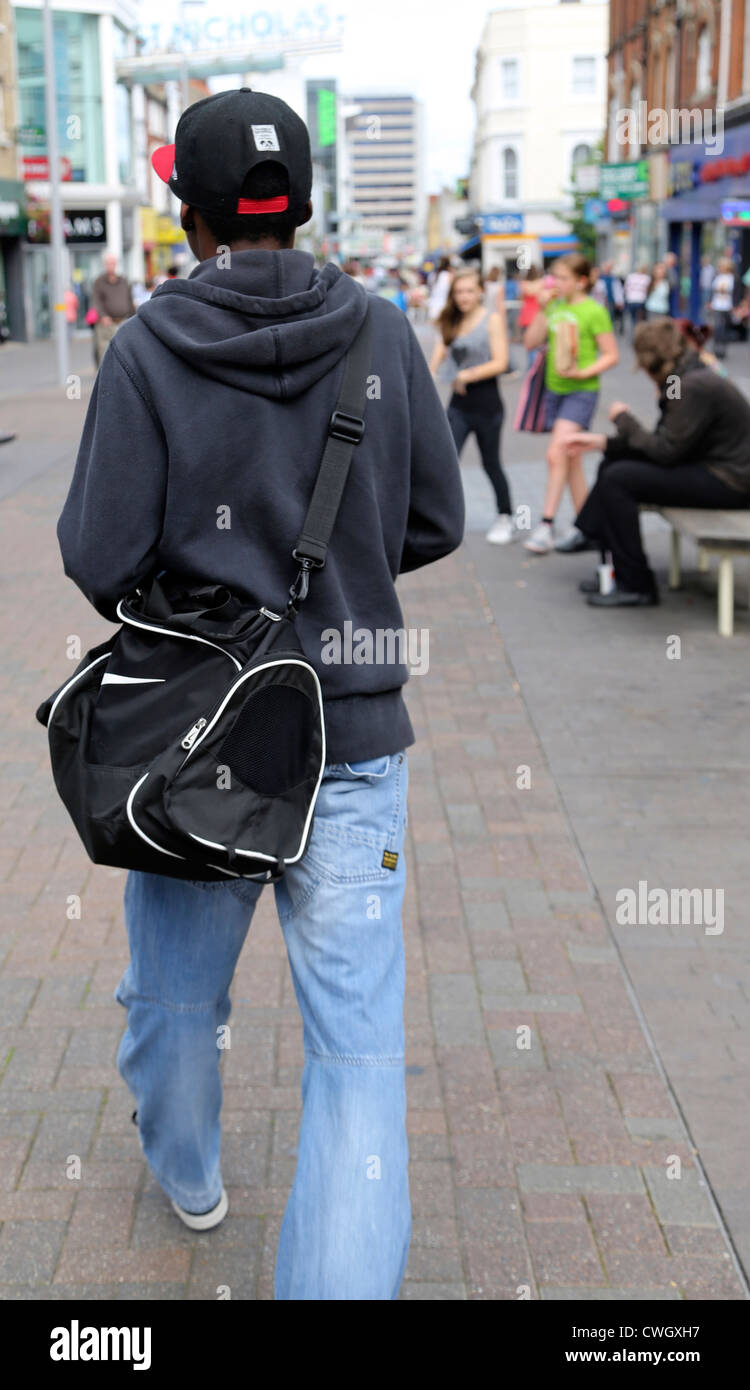person: (49, 77, 471, 1305), (566, 316, 750, 611)
